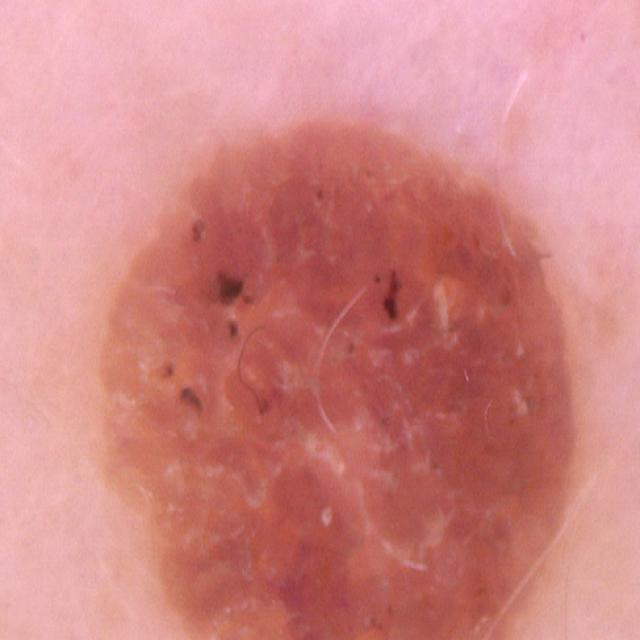Keratosis: (88, 47, 639, 640)
